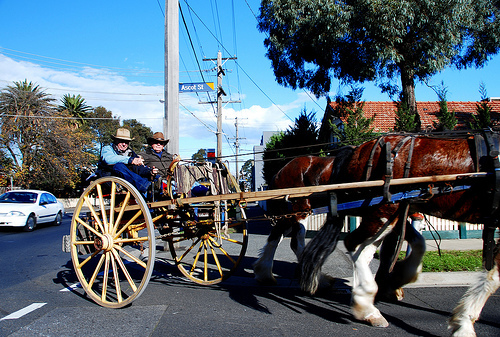horse: (296, 127, 499, 333), (248, 151, 434, 297)
